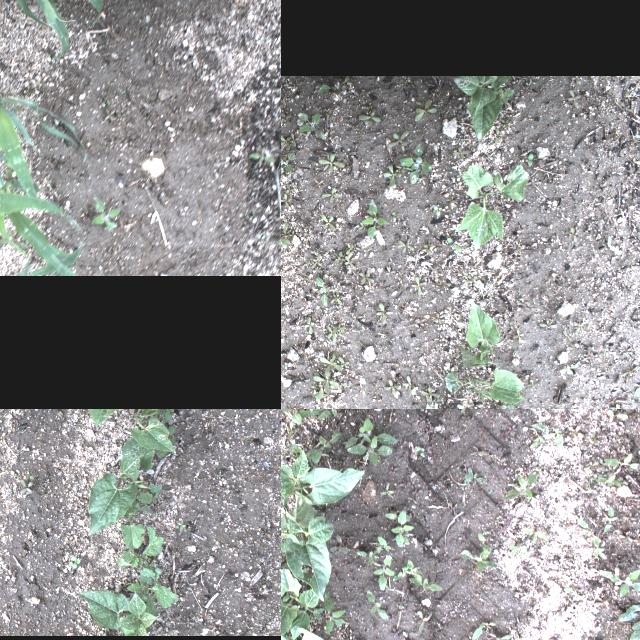crop: (0, 92, 85, 275), (87, 436, 155, 536), (454, 165, 528, 248), (281, 441, 364, 510), (281, 495, 334, 601), (0, 0, 100, 51), (451, 76, 511, 140), (78, 590, 158, 636), (281, 568, 323, 640), (446, 368, 524, 404), (458, 303, 500, 369), (129, 409, 174, 452), (120, 496, 154, 550), (281, 631, 330, 640), (425, 403, 443, 409)
weed: (343, 416, 397, 466), (114, 526, 162, 570), (126, 568, 178, 608), (614, 587, 640, 640), (398, 142, 430, 185), (384, 508, 414, 548), (458, 544, 498, 574), (599, 568, 640, 597), (500, 471, 538, 502), (359, 198, 388, 238), (322, 588, 346, 636), (306, 430, 339, 464), (370, 555, 396, 595), (90, 197, 120, 231), (530, 420, 564, 450), (387, 558, 423, 582), (296, 112, 326, 140), (602, 453, 636, 472), (366, 589, 386, 621), (317, 76, 351, 94), (593, 470, 625, 488), (406, 575, 442, 591), (318, 152, 344, 174), (136, 482, 162, 504), (460, 466, 486, 488), (312, 370, 340, 390), (585, 534, 605, 560), (382, 162, 401, 188), (414, 99, 436, 121), (319, 353, 343, 373), (470, 622, 496, 640), (250, 148, 276, 164), (520, 528, 548, 542), (376, 302, 392, 326), (315, 274, 327, 306), (604, 506, 618, 532), (321, 186, 341, 204), (374, 534, 392, 554), (357, 110, 381, 124), (354, 552, 378, 566), (281, 221, 293, 248), (388, 130, 408, 146), (606, 236, 622, 256), (420, 387, 440, 403), (319, 213, 335, 231), (396, 238, 414, 254), (493, 89, 513, 103), (281, 420, 295, 440), (281, 409, 301, 423), (149, 409, 172, 421), (281, 133, 297, 150), (606, 409, 628, 421), (319, 409, 345, 419), (379, 482, 395, 498), (281, 152, 292, 175), (381, 381, 399, 395), (567, 89, 579, 109), (402, 375, 414, 395), (328, 540, 348, 552), (509, 544, 529, 556), (416, 612, 428, 632), (356, 270, 372, 284), (446, 238, 462, 252), (20, 479, 34, 495), (451, 146, 469, 158), (324, 325, 336, 343), (576, 517, 588, 535), (412, 276, 422, 296), (316, 379, 326, 399), (421, 240, 435, 254), (530, 433, 544, 447), (310, 253, 322, 269), (511, 328, 523, 344), (568, 427, 584, 439), (492, 126, 502, 144), (538, 319, 556, 329), (303, 316, 313, 334), (560, 364, 578, 374), (620, 366, 638, 376), (281, 192, 291, 208), (102, 110, 114, 122), (67, 557, 79, 569), (302, 409, 326, 415), (524, 152, 534, 166), (562, 330, 572, 344), (438, 280, 452, 290), (444, 195, 458, 205), (344, 256, 354, 270), (331, 292, 341, 306), (284, 185, 294, 199), (588, 432, 598, 446), (414, 444, 424, 458), (584, 461, 598, 471), (489, 634, 512, 640), (332, 252, 343, 264), (338, 356, 349, 368), (273, 237, 281, 253), (616, 534, 632, 542), (570, 594, 586, 602), (354, 90, 364, 102), (432, 205, 442, 217), (460, 270, 472, 280), (574, 321, 584, 333), (433, 314, 445, 324), (422, 271, 432, 283), (384, 266, 396, 276), (568, 228, 576, 242), (322, 390, 333, 400), (468, 450, 486, 456), (592, 601, 610, 607), (500, 118, 510, 128), (281, 114, 290, 124), (184, 617, 193, 627), (173, 522, 184, 530), (586, 478, 592, 492), (525, 81, 535, 89), (349, 244, 359, 252), (298, 276, 308, 284), (633, 388, 640, 397), (390, 211, 396, 221), (601, 346, 607, 356), (528, 378, 534, 388), (477, 532, 483, 542), (460, 409, 478, 412), (281, 190, 285, 203), (570, 76, 578, 82), (564, 587, 572, 593), (395, 604, 403, 610), (579, 637, 593, 640), (496, 515, 502, 521), (369, 472, 373, 480), (447, 502, 451, 508), (638, 503, 640, 515), (488, 490, 492, 494)
